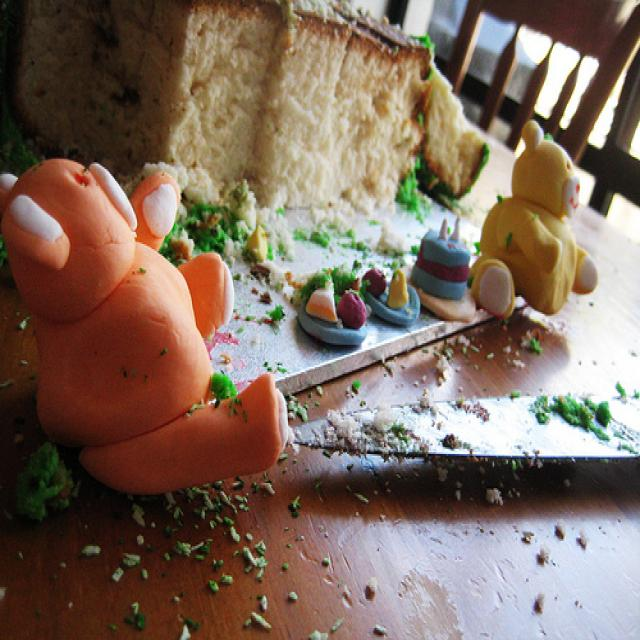chair: (440, 1, 640, 158)
dining table: (2, 1, 640, 628)
